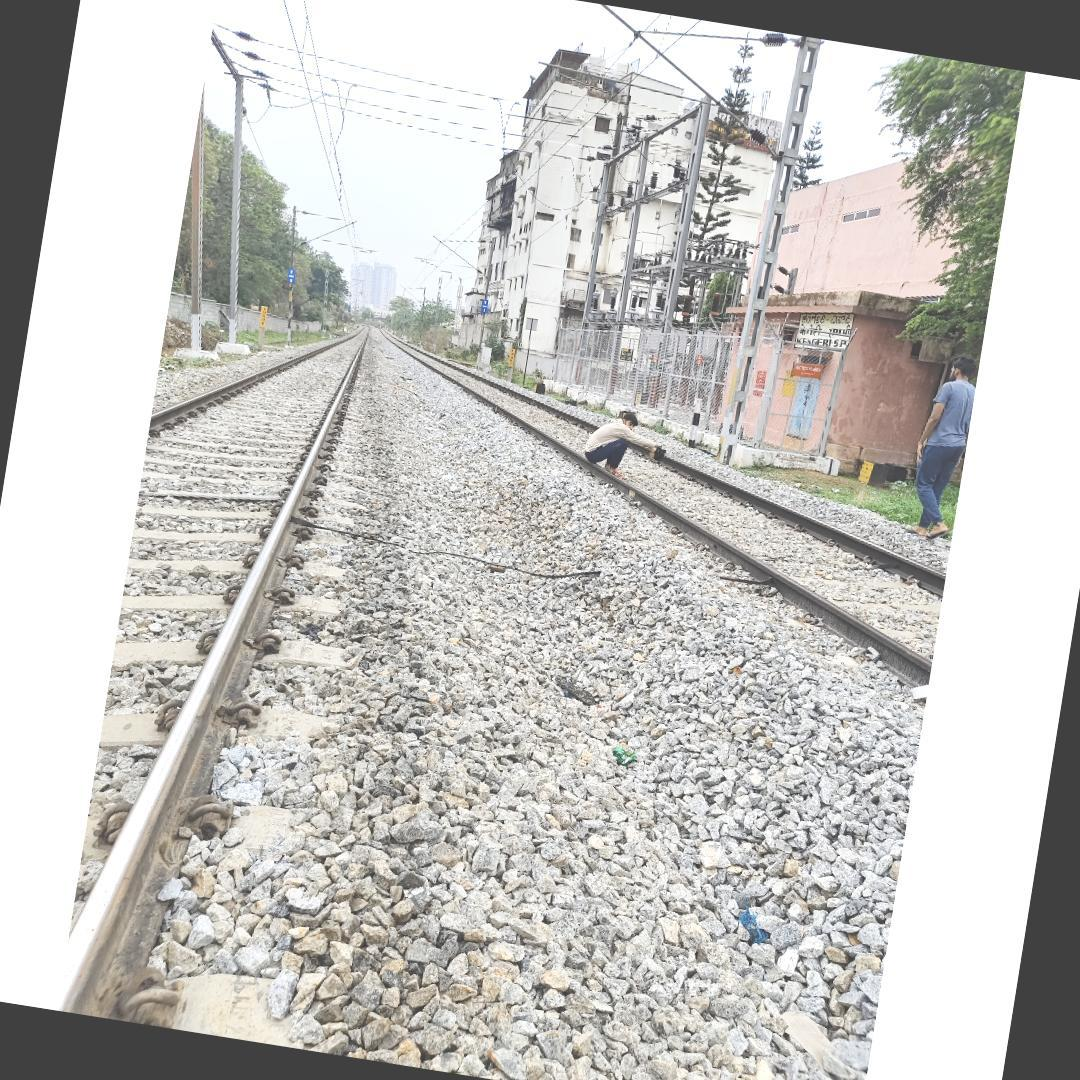sitting: (578, 402, 672, 482)
standing: (900, 346, 978, 540)
track: (56, 310, 387, 1023), (389, 336, 949, 740)
